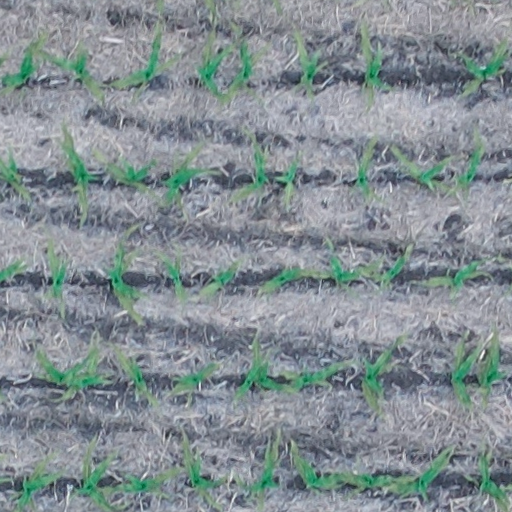planta: (108, 222, 155, 323), (110, 23, 181, 89), (163, 141, 223, 217), (380, 444, 452, 495), (235, 432, 280, 511), (52, 344, 113, 402), (61, 125, 96, 226), (33, 239, 74, 321), (43, 41, 101, 98), (182, 437, 227, 508), (359, 336, 401, 411), (390, 145, 454, 194), (289, 441, 351, 491), (291, 29, 329, 108), (457, 37, 507, 97), (423, 257, 493, 299), (442, 129, 485, 197), (112, 343, 158, 406), (93, 149, 156, 193), (359, 23, 392, 107), (448, 332, 483, 408), (163, 360, 218, 408), (229, 138, 269, 201), (251, 333, 293, 393), (196, 30, 233, 96), (227, 41, 271, 96), (324, 239, 379, 283), (37, 344, 92, 387), (114, 465, 183, 498), (478, 327, 507, 403), (282, 360, 350, 392), (233, 346, 272, 399), (476, 448, 509, 510), (260, 266, 327, 294), (198, 257, 242, 298), (341, 472, 404, 499), (372, 245, 412, 287), (353, 134, 377, 199), (158, 250, 187, 303), (273, 151, 300, 206)
